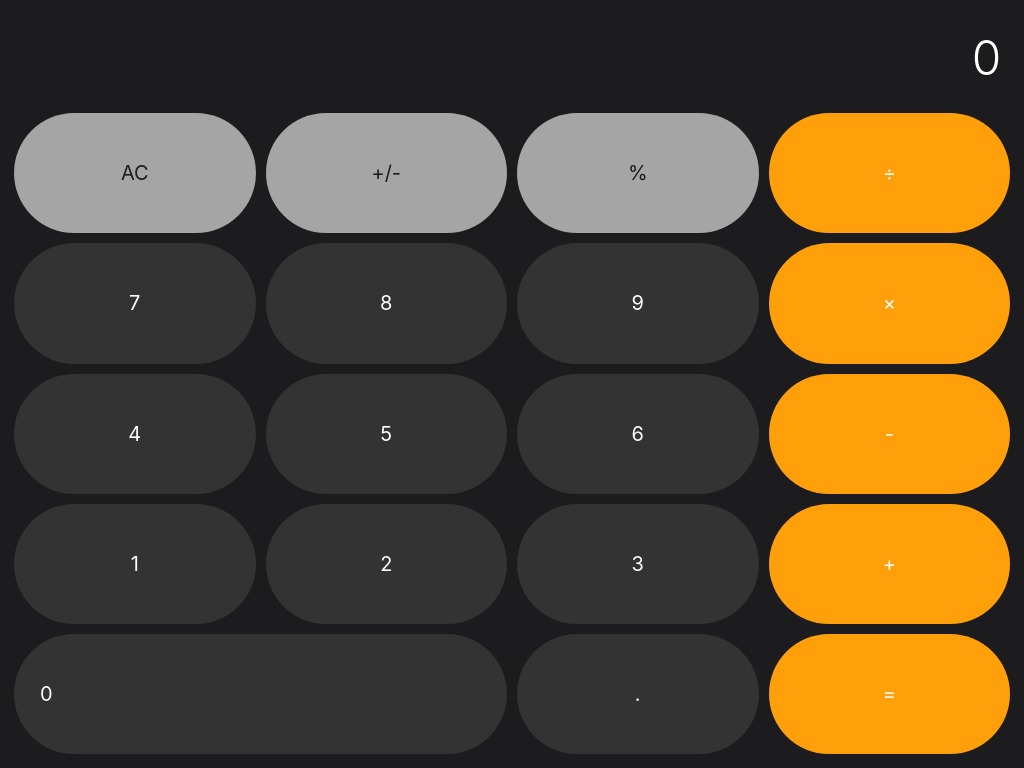
Test: Calculator › computes 6 x 7 via button clicks
The image size is (1024, 768).
Click the button "6" at coordinates (638, 434), box 517,374 -> 758,494
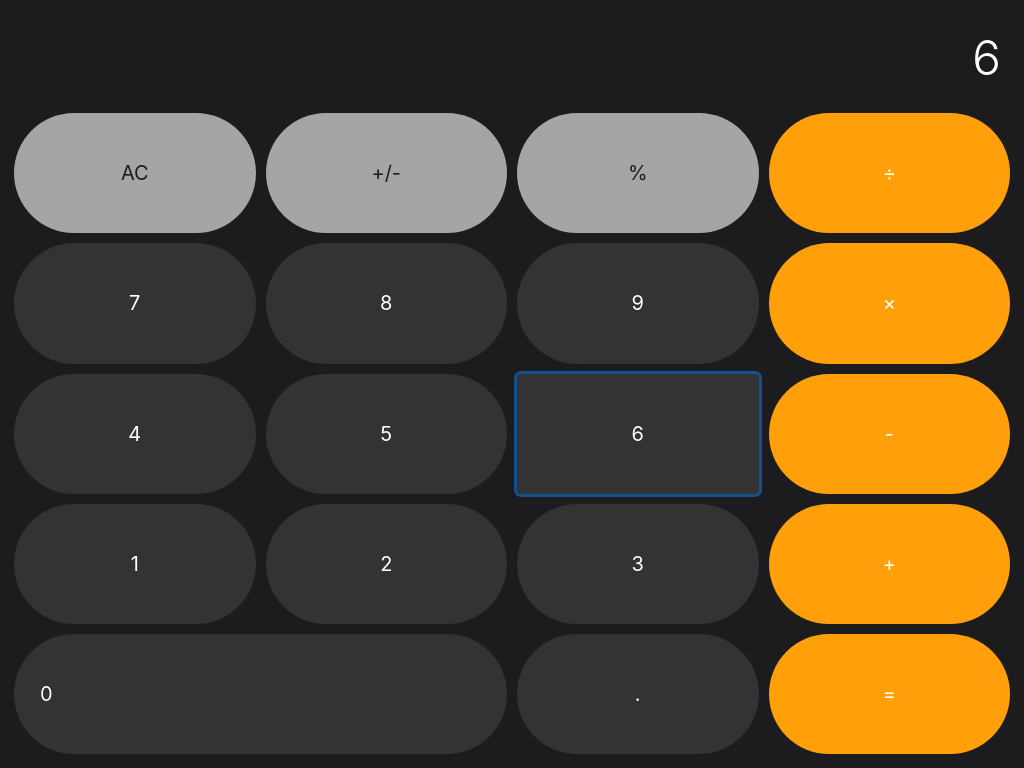
Click the button "×" at coordinates (889, 303), box 768,243 -> 1010,364
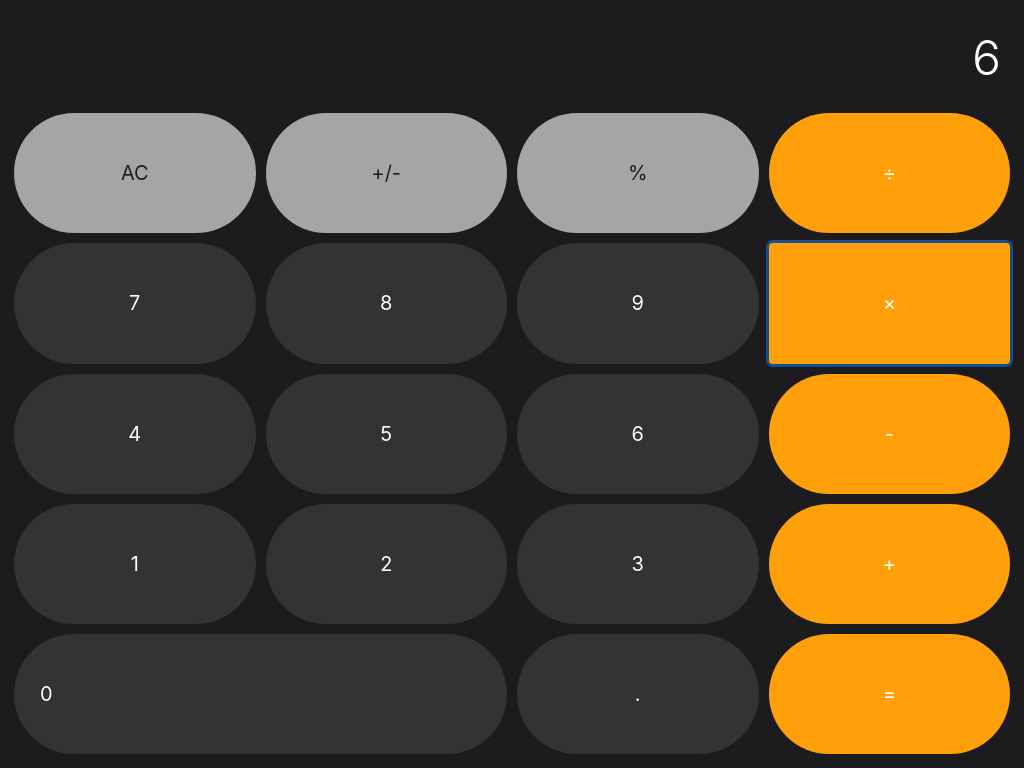
Click the button "7" at coordinates (135, 303), box 14,243 -> 256,364
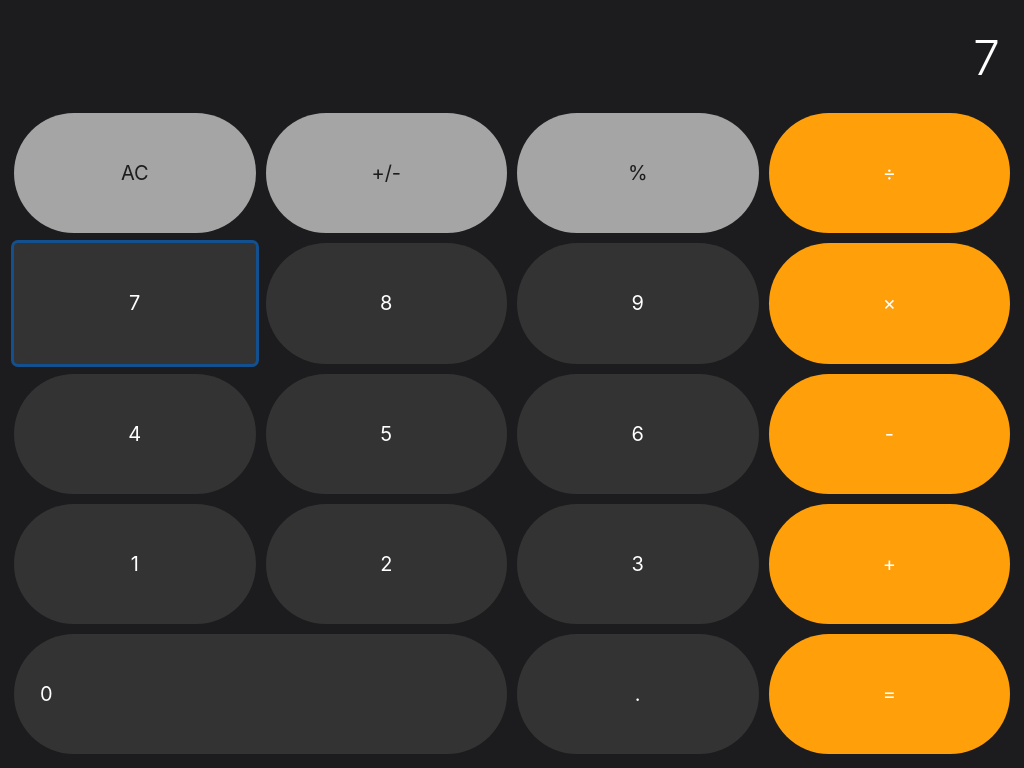
Click the button "=" at coordinates (889, 694), box 768,634 -> 1010,754
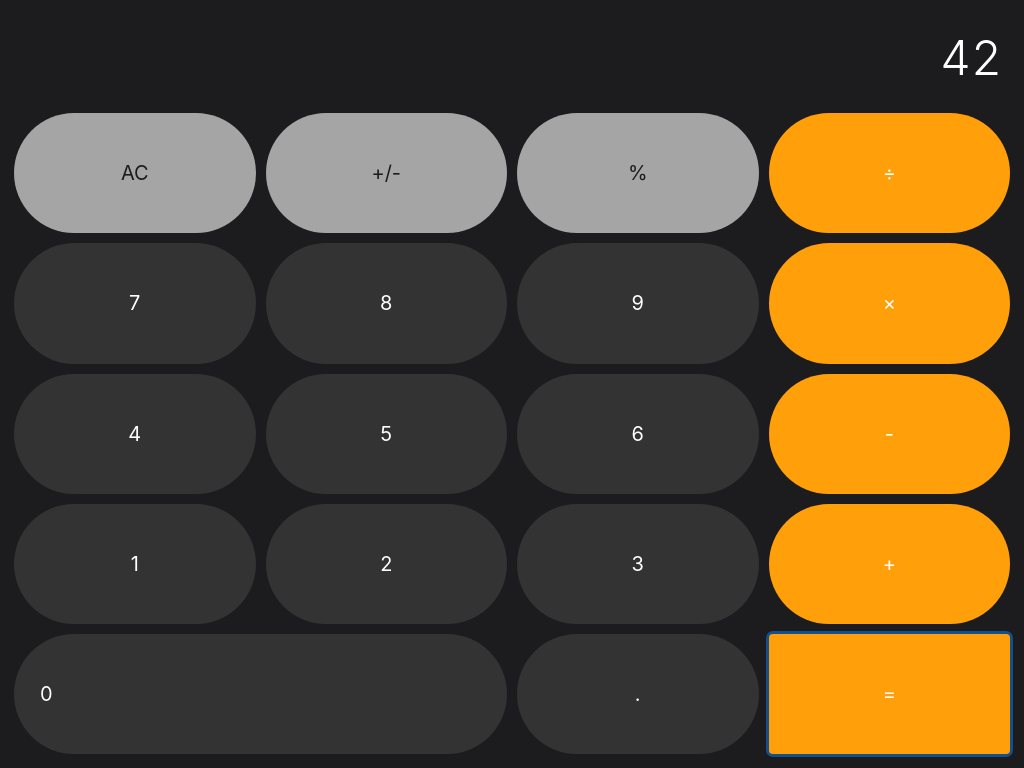
Result: the text "42" is shown at 940,28 -> 1002,87
